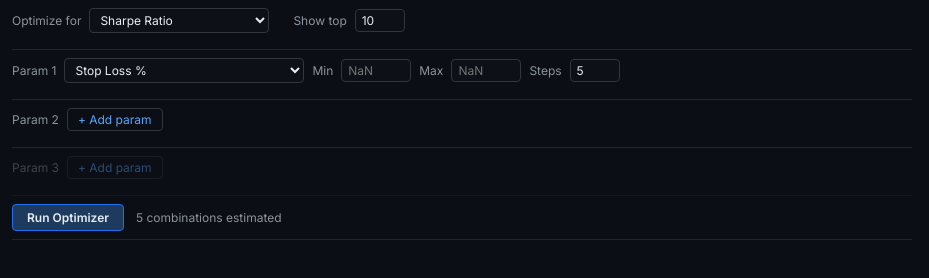
Test: OptimizerPanel runOptimizer validation — ordered branches › branch 1: rejects blank Min when system default is NaN
The image size is (929, 278).
Click the button "Run Optimizer". click: (68, 218)
box: [12,204,124,231]
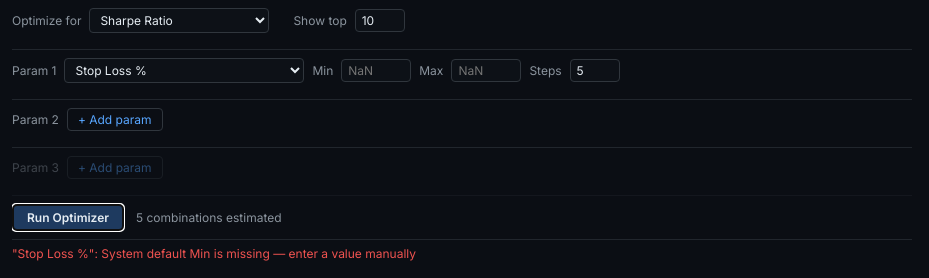
Check: the text "\"Stop Loss %\": System default Min is missing — enter a value manually" is shown, box [12,246,416,261]
